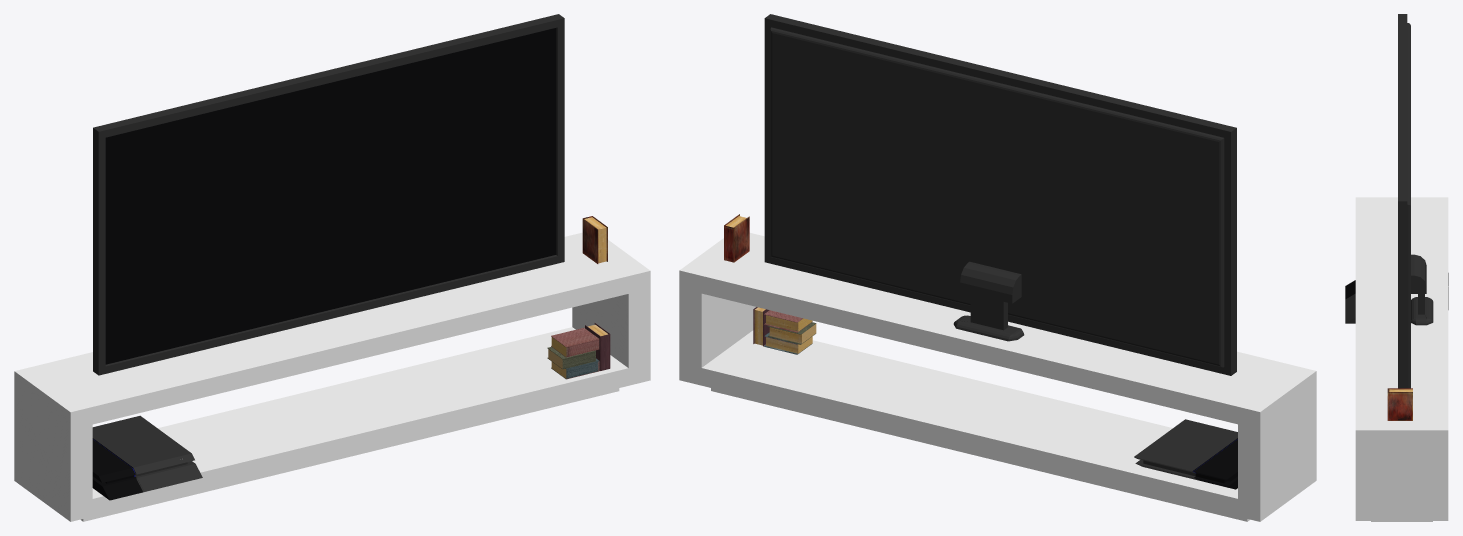
The model's file is mueble_bajo.fbx.
The picture shows the model from 3 angles, left to right: view 1: azimuth 30°, elevation 25°; view 2: azimuth 150°, elevation 25°; view 3: azimuth 270°, elevation 25°; orthographic projection. The views are drawn at different scales.
Visible parts, largest first — view 1: TV, Lowtable, PS4, libros; view 2: TV, Lowtable, PS4, libros; view 3: Lowtable, TV, libros, PS4.
Part boxes in pixels (x1,y1,x2,y2): TV: (93, 14, 564, 375); Lowtable: (14, 232, 650, 521); PS4: (92, 415, 202, 500); libros: (547, 216, 610, 379); TV: (764, 14, 1236, 375); Lowtable: (679, 233, 1316, 521); PS4: (1134, 419, 1237, 489); libros: (724, 214, 816, 354); Lowtable: (1355, 197, 1448, 521); TV: (1398, 14, 1433, 388); libros: (1387, 388, 1412, 420); PS4: (1345, 273, 1448, 323).
Bounding box in the file's own units: 349 × 213 × 65.26.
Materials: 4 (4 with a texture image).
